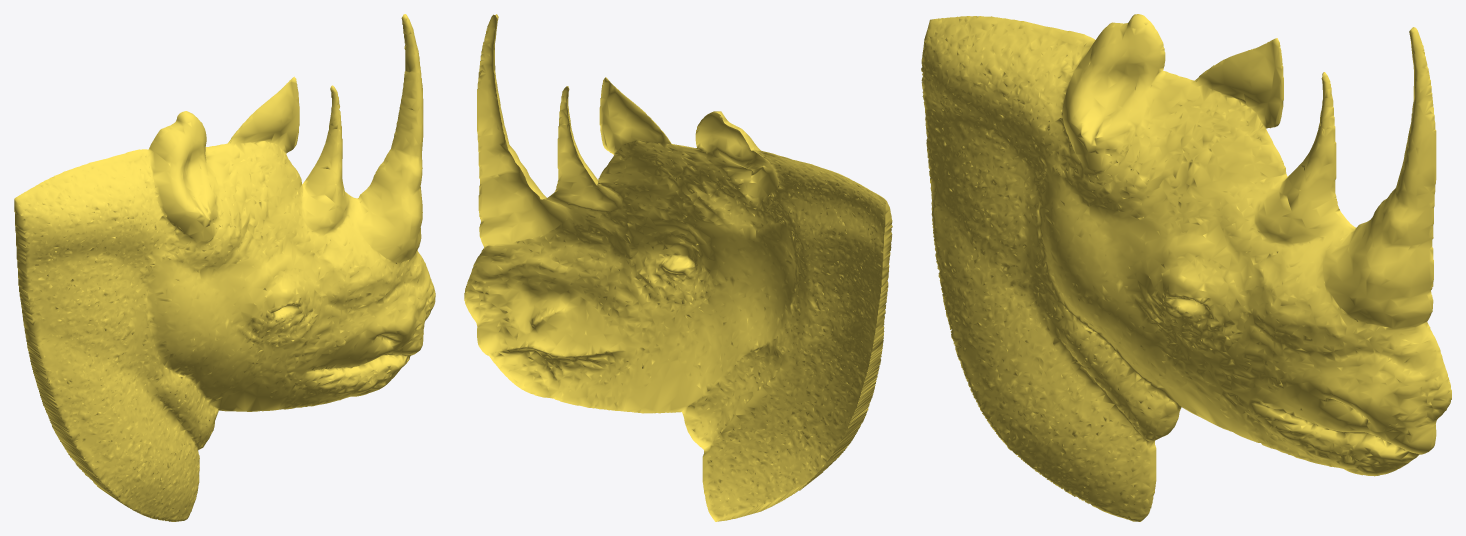
The model's file is card-369.glb.
The picture shows the model from 3 angles, left to right: view 1: azimuth 30°, elevation 25°; view 2: azimuth 150°, elevation 25°; view 3: azimuth 330°, elevation 25°; orthographic projection. The views are drawn at different scales.
Visible parts, largest first — view 1: geometry_0; view 2: geometry_0; view 3: geometry_0.
Part boxes in pixels (bbox=[...]): geometry_0: bbox=[14, 14, 435, 521]; geometry_0: bbox=[464, 14, 892, 521]; geometry_0: bbox=[921, 14, 1451, 521].
Bounding box in the file's own units: 0.3406 × 0.35 × 0.0501.
